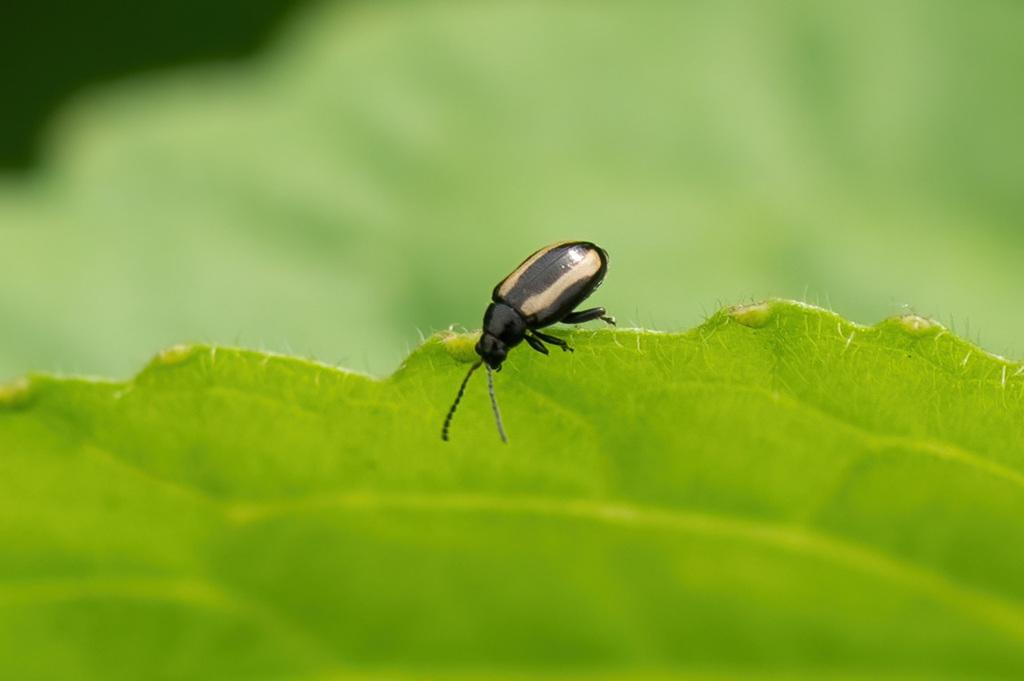flea_beetle: (408, 205, 641, 465)
